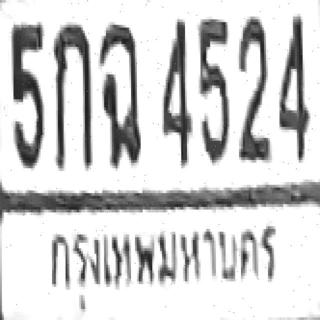A01: (53, 22, 92, 168)
A09: (99, 22, 140, 166)
N02: (237, 19, 270, 160)
N04: (160, 17, 191, 163), (278, 11, 308, 160)
N05: (10, 22, 42, 168), (198, 17, 228, 163)
P04: (42, 210, 276, 320)
